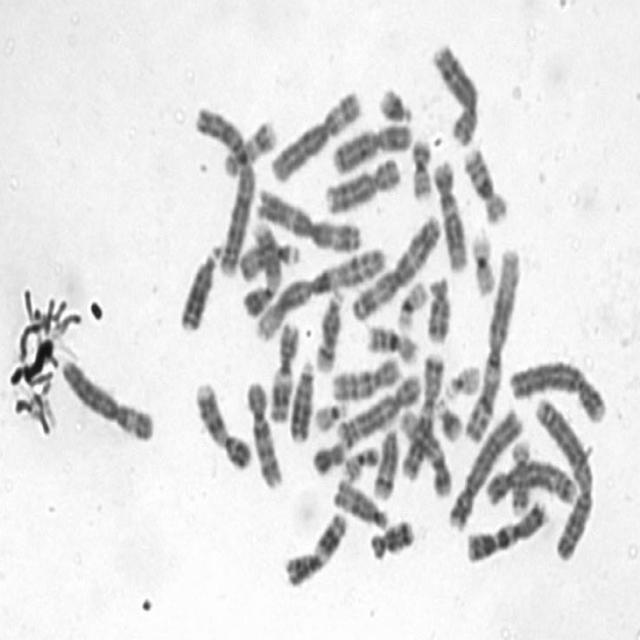A1: (251, 241, 389, 343), (462, 242, 524, 444)
A2: (189, 98, 256, 279), (531, 391, 597, 561)
A3: (348, 208, 444, 323), (253, 179, 365, 255)
B4: (444, 401, 523, 532), (506, 353, 610, 425)
B5: (334, 366, 424, 447), (482, 455, 578, 509)
C10: (241, 374, 285, 492), (327, 350, 402, 402)
C11: (279, 504, 350, 589), (265, 316, 302, 424)
C12: (396, 401, 455, 499), (430, 154, 470, 273)
C6: (267, 83, 364, 184), (57, 351, 157, 443)
C7: (396, 346, 446, 482), (462, 491, 552, 564)
C8: (428, 36, 483, 147), (321, 148, 404, 216)
C9: (191, 373, 255, 471), (238, 214, 283, 318)
D13: (175, 237, 224, 334), (285, 353, 316, 444)
D14: (312, 280, 346, 374), (369, 420, 401, 500)
D15: (329, 471, 391, 531), (234, 235, 302, 283)
E16: (459, 140, 510, 226), (362, 317, 420, 366)
E17: (219, 113, 279, 179), (506, 433, 534, 517)
E18: (366, 513, 417, 561), (423, 270, 453, 346)
F19: (467, 222, 498, 297), (393, 273, 430, 331)
F20: (407, 131, 435, 202), (339, 440, 382, 482)
G21: (375, 79, 416, 124), (432, 391, 466, 443)
G22: (442, 357, 482, 401), (311, 395, 350, 433)
X: (328, 116, 415, 175)
Y: (309, 434, 349, 478)
